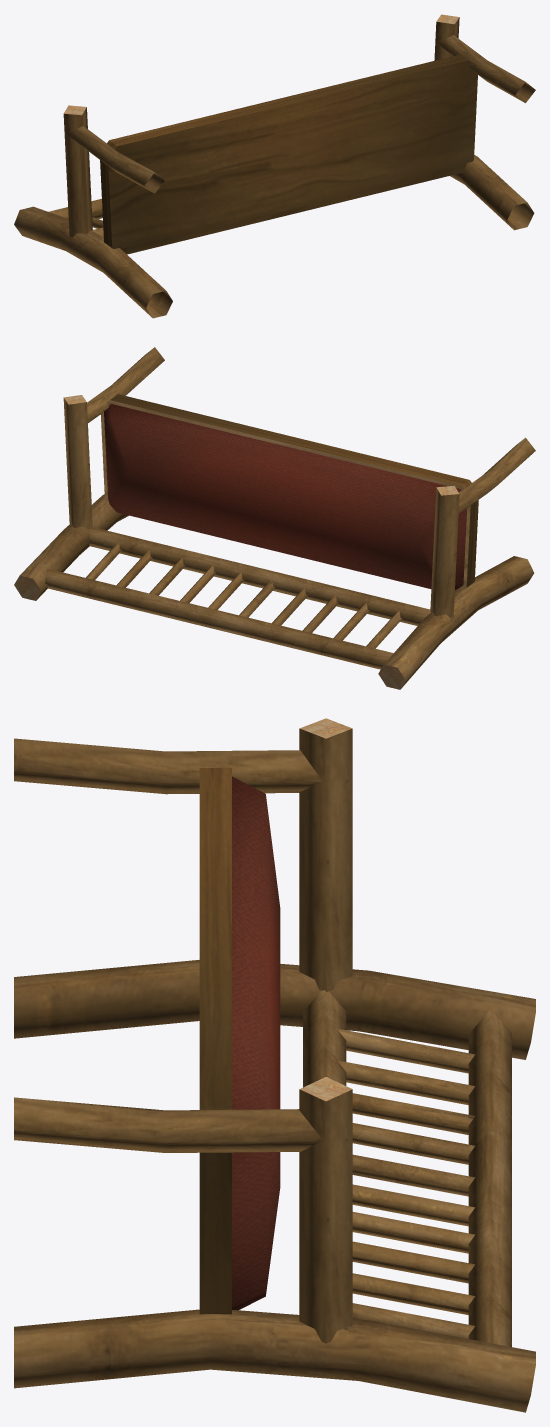
Rendered from Log_Sofa_B.fbx.
3 views of the same model, one above another, from view 1: azimuth 30°, elevation 25°; view 2: azimuth 150°, elevation 25°; view 3: azimuth 270°, elevation 25° (orthographic). The views are drawn at different scales.
Visible parts, largest first — view 1: Log_Sofa_B; view 2: Log_Sofa_B; view 3: Log_Sofa_B.
Boxes of the visible parts, x1=… form: Log_Sofa_B: x1=14, y1=14, x2=535, y2=318; Log_Sofa_B: x1=14, y1=347, x2=535, y2=689; Log_Sofa_B: x1=14, y1=718, x2=535, y2=1412.
Size of the model in its own units: 17.99 by 7.05 by 10.35.
